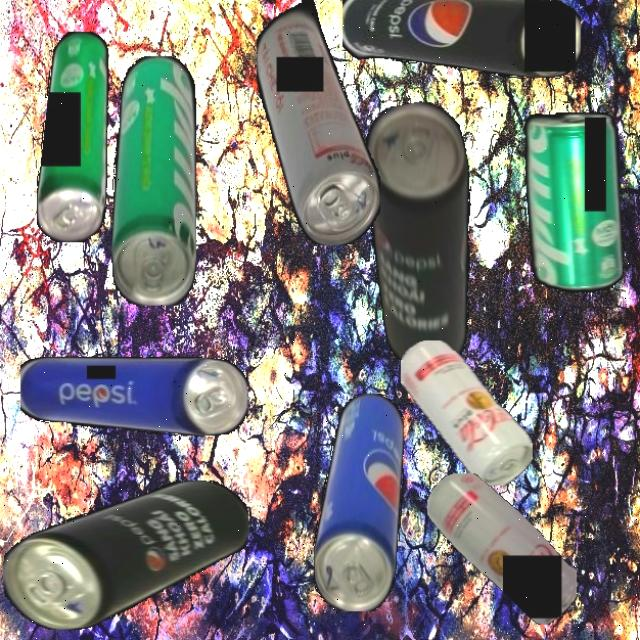debris: (348, 96, 502, 377), (3, 479, 249, 630), (255, 0, 380, 245), (427, 472, 577, 625), (110, 55, 196, 306), (312, 392, 404, 612), (400, 340, 532, 486), (342, 0, 580, 79), (19, 357, 248, 436), (524, 112, 622, 292), (36, 31, 110, 242)
